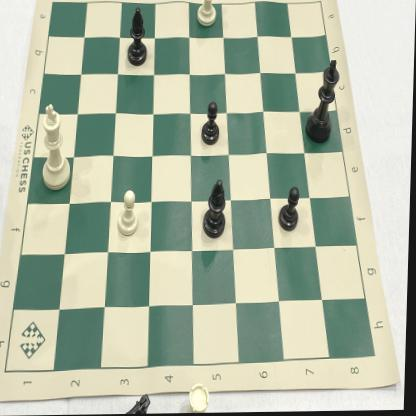bishop: (202, 177, 233, 242)
black-bishop: (126, 2, 153, 72)
black-king: (304, 50, 345, 148)
black-pawn: (277, 182, 303, 237), (201, 97, 222, 147)
white-bishop: (194, 0, 221, 33)
white-king: (35, 98, 74, 197)
white-pawn: (115, 184, 145, 240)
